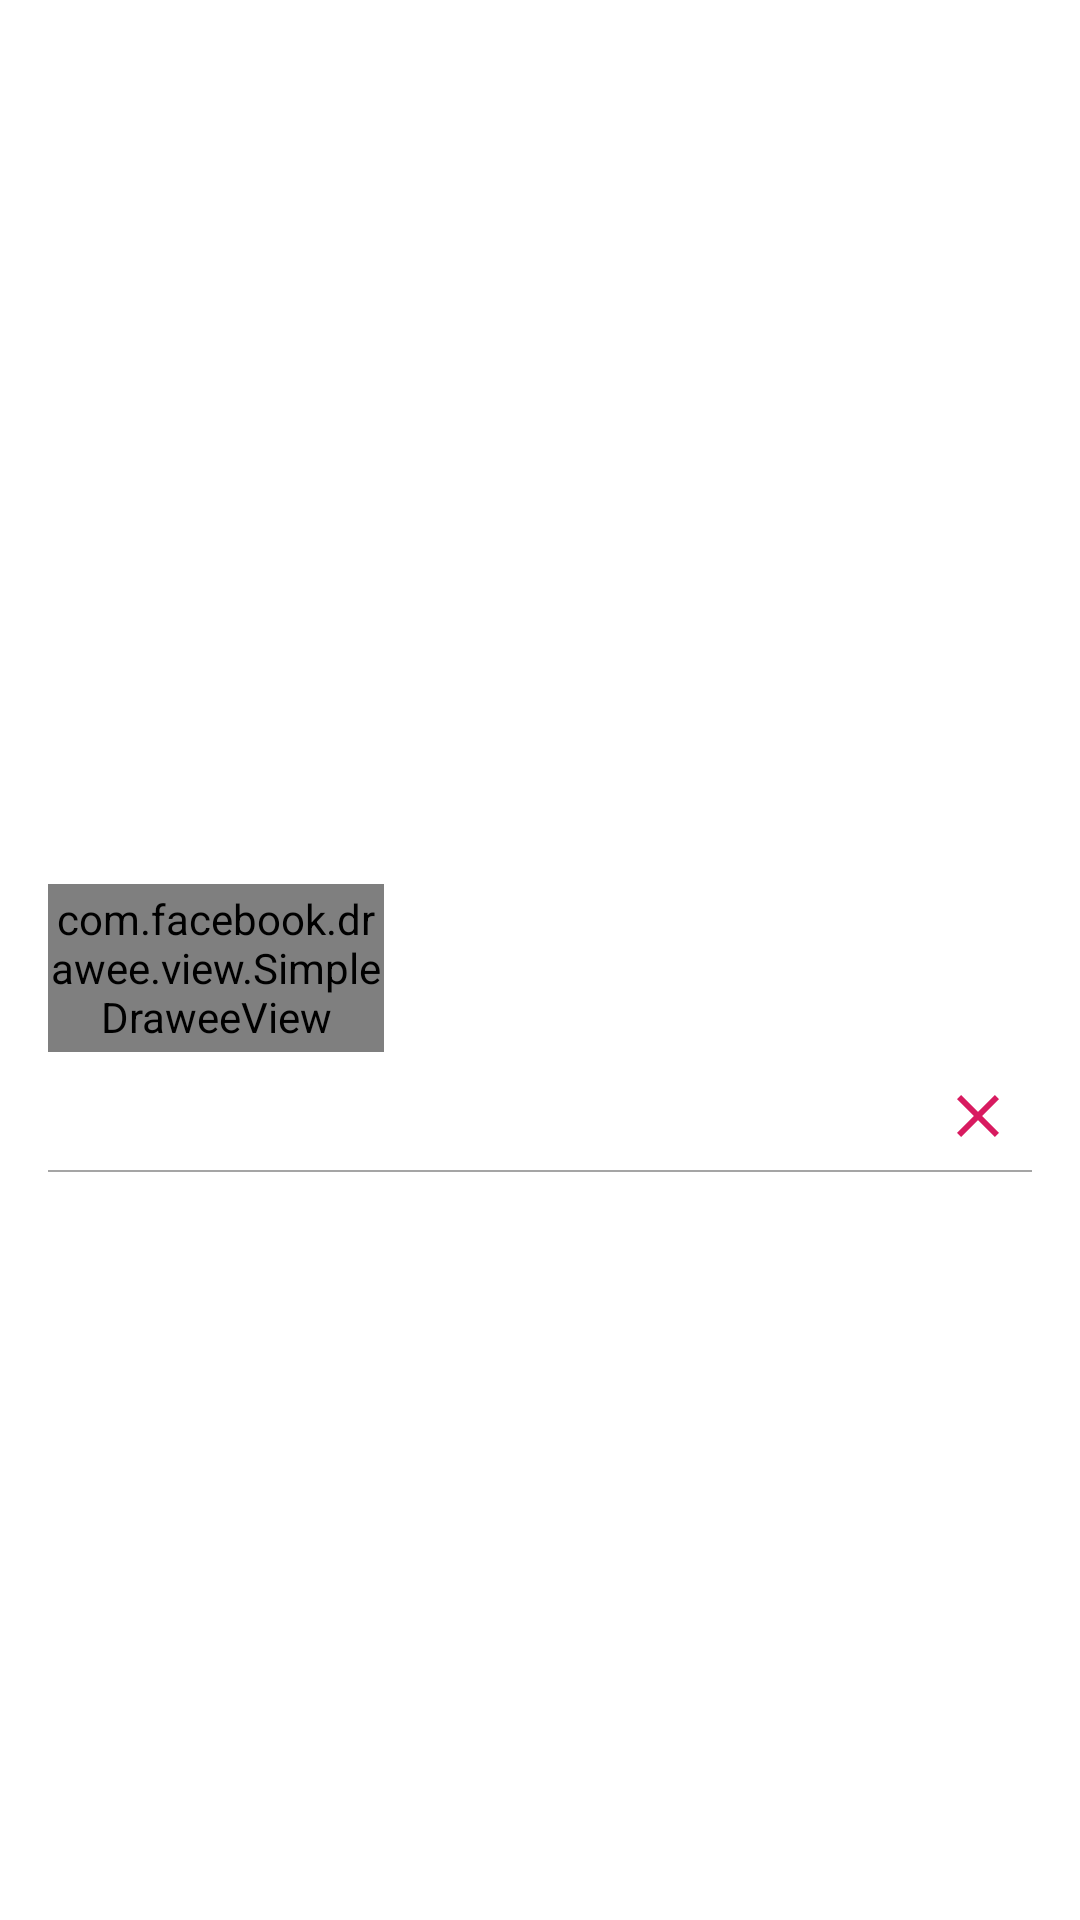

Where to tap for icons on this 1080 × 1920 app screen, as (x,y):
clear: (978,1116)
